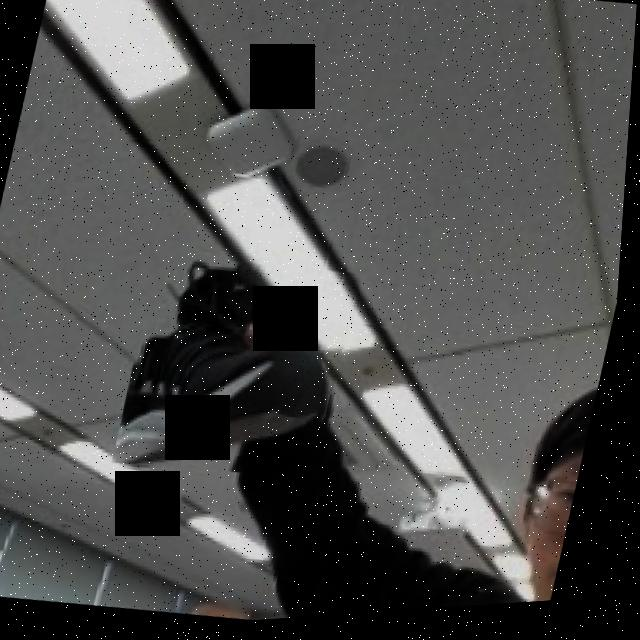shoe: (117, 247, 369, 498)
